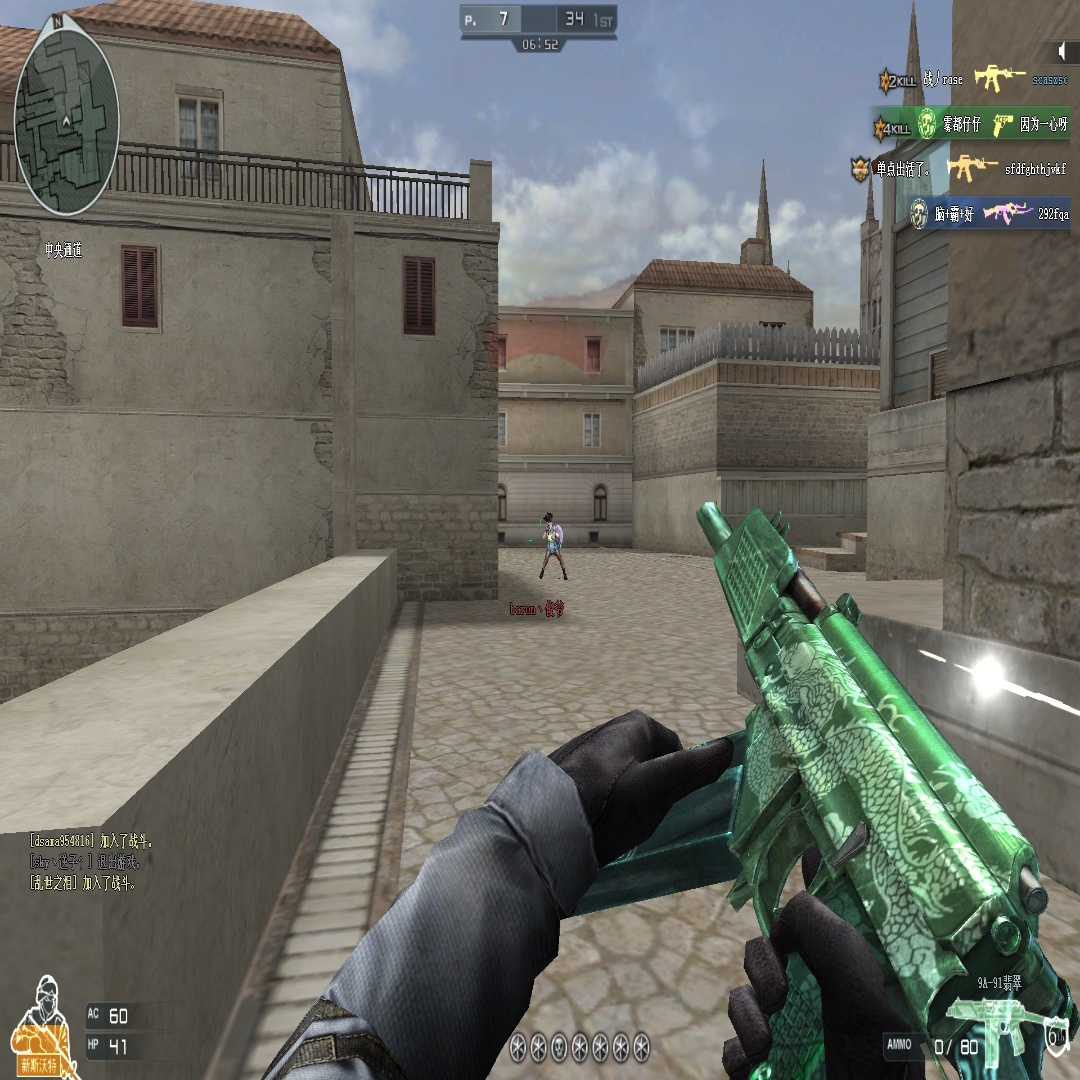p: (539, 513, 568, 584)
